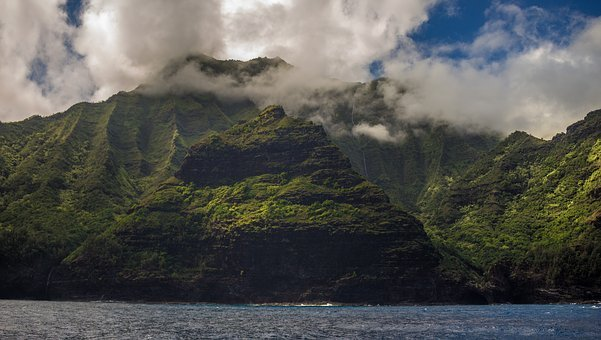mountain: (1, 66, 601, 292)
sea: (5, 291, 601, 338)
sky: (1, 1, 598, 117)
